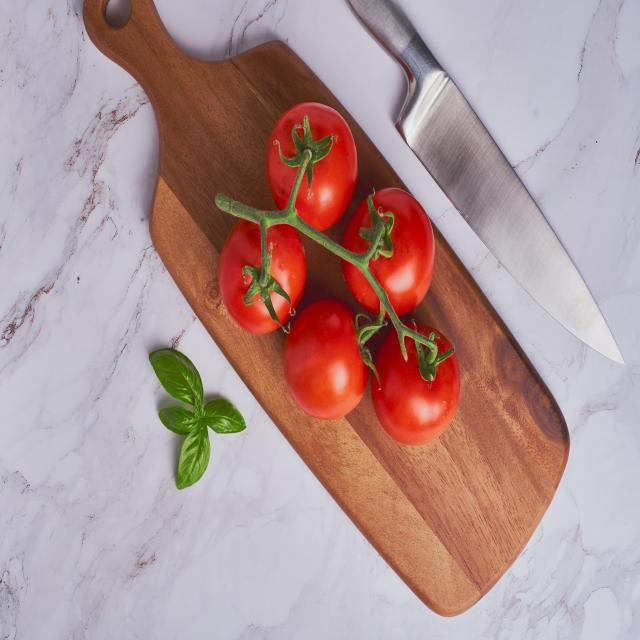Tomato: (340, 177, 436, 306), (268, 98, 356, 230), (382, 318, 472, 446), (216, 220, 312, 336)
